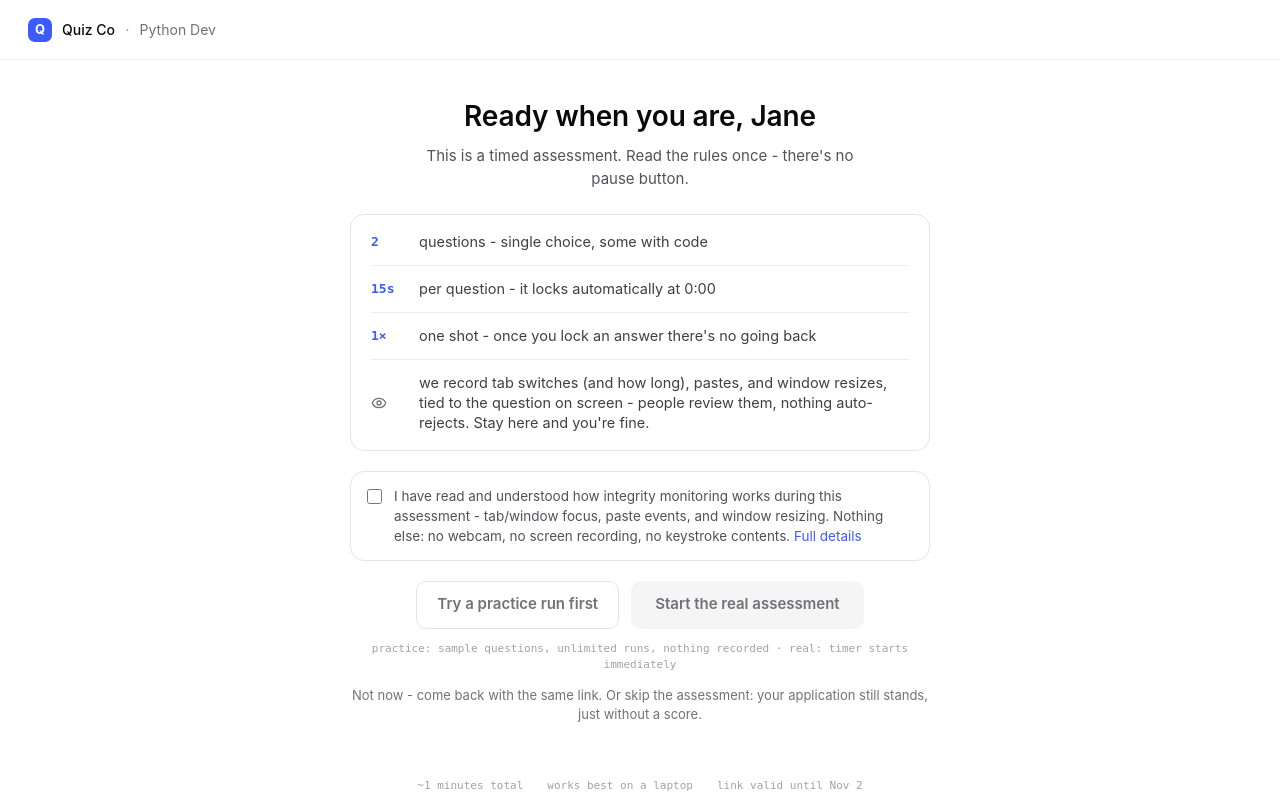
it: QuizPage › never shows more time than the server granted when the client clock is behind
This screenshot has width=1280, height=800.
Click the checkbox at x=374, y=496, box [367,489,382,504]
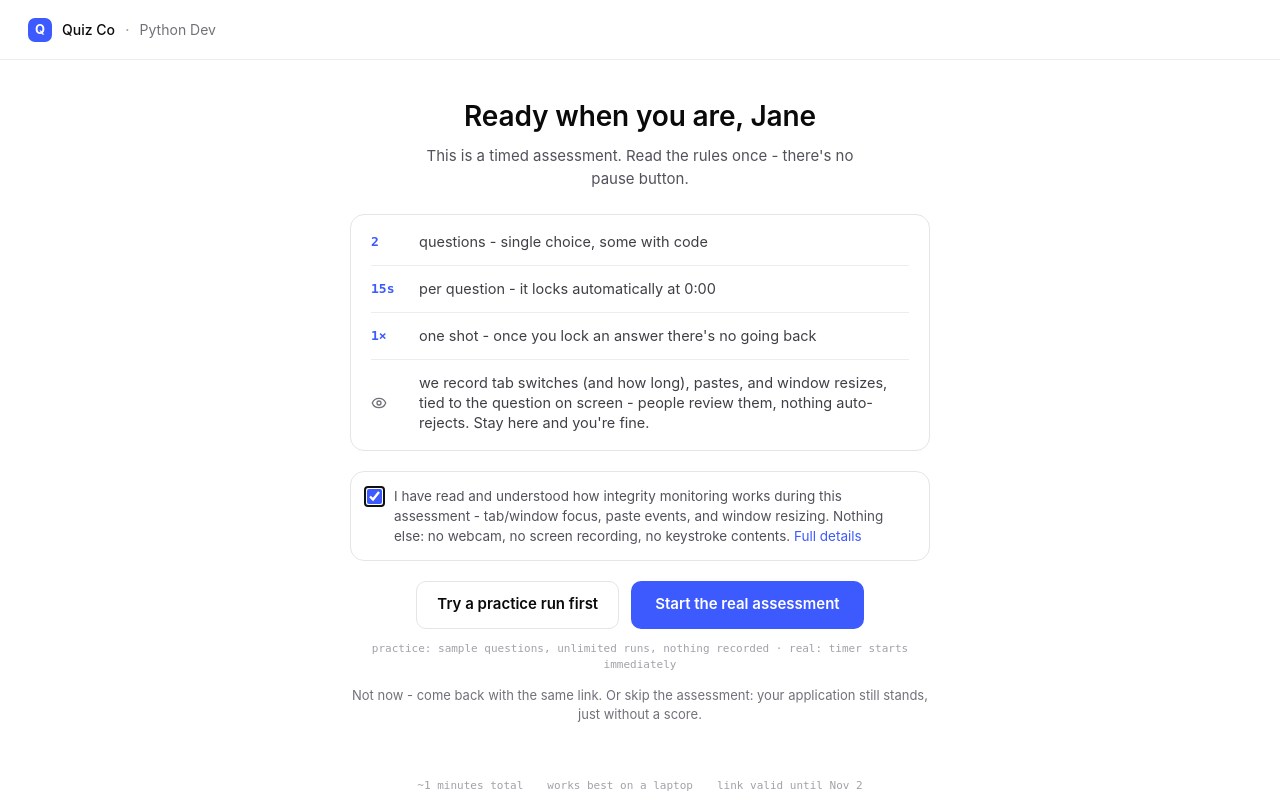
Click the button "Start the real assessment" at x=747, y=605, box [631,581,864,629]
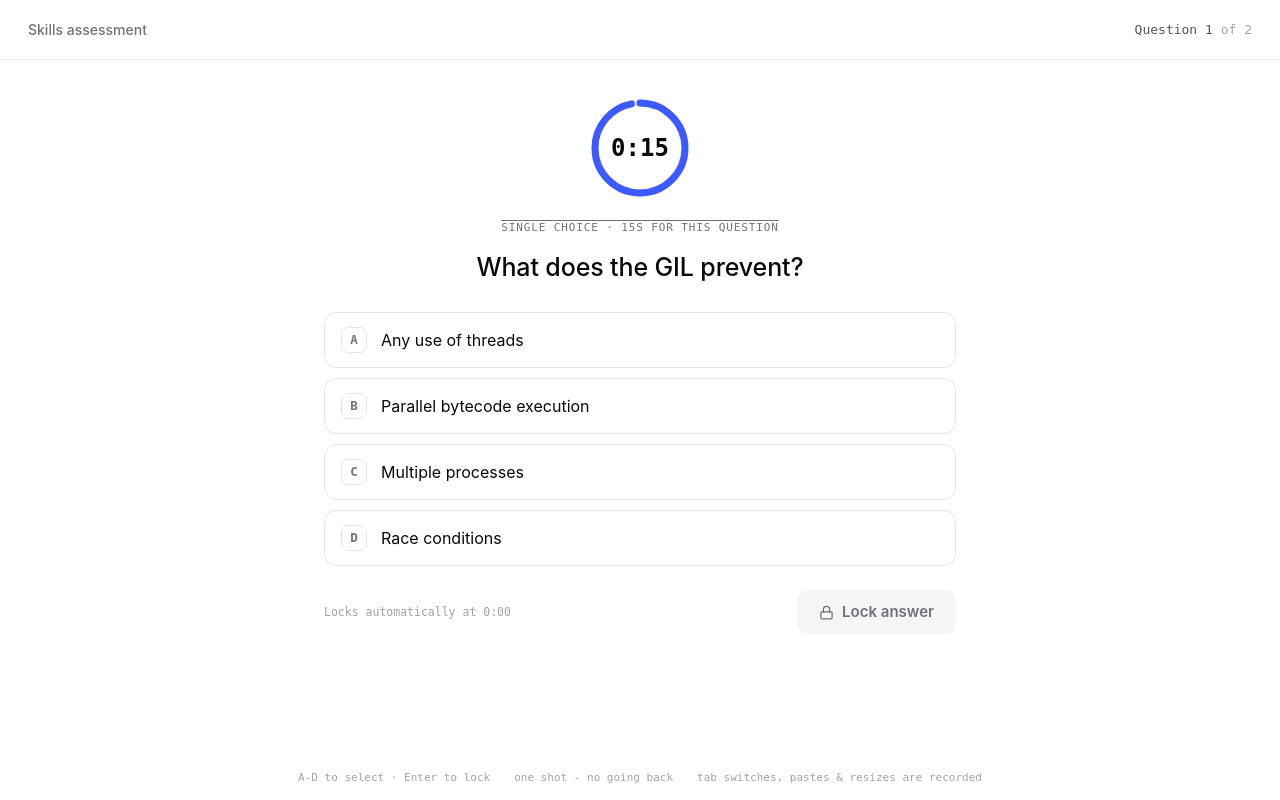
Now the text named "time remaining" reads "0:15", box [611,134,669,162]
